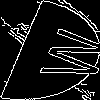W: (25, 25, 100, 84)
